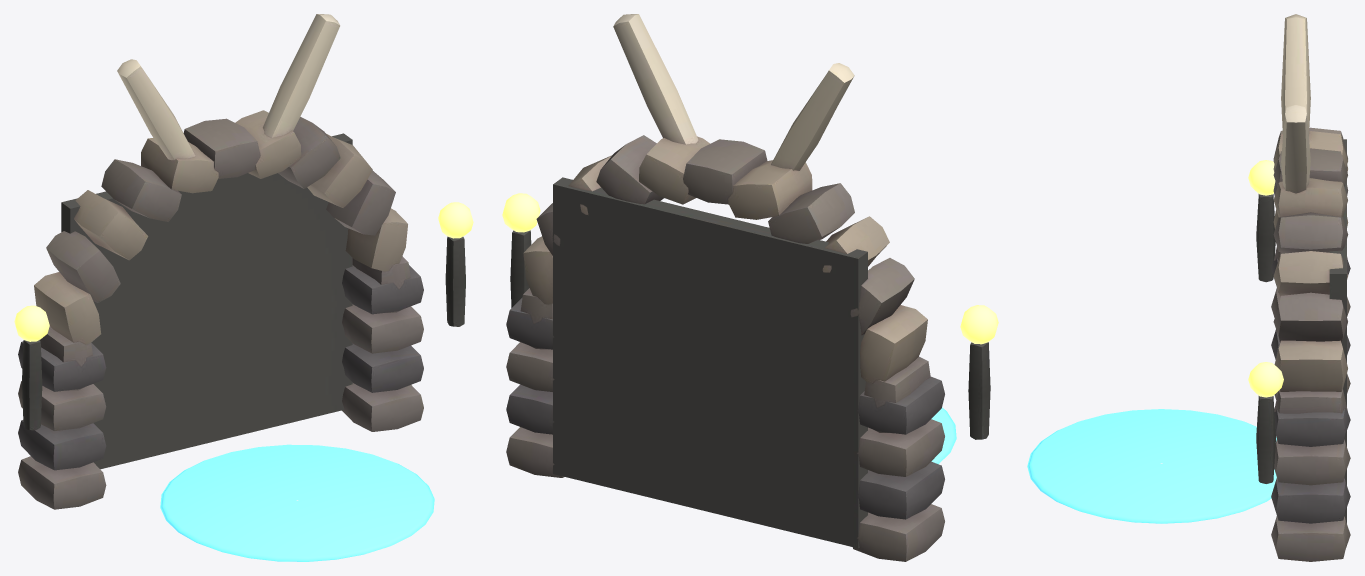
File: arena_gate.glb
3 renders of one model, left to right at view 1: azimuth 30°, elevation 25°; view 2: azimuth 150°, elevation 25°; view 3: azimuth 270°, elevation 25°, orthographic. The views are drawn at different scales.
Visible parts, largest first — view 1: main, glow; view 2: main, glow; view 3: main, glow.
Part boxes in pixels (<box>): main: <box>18,14,465,509</box>; glow: <box>14,202,473,561</box>; main: <box>506,14,990,561</box>; glow: <box>502,193,998,464</box>; main: <box>1256,14,1350,561</box>; glow: <box>1027,160,1283,523</box>.
Size of the model in its own units: 10.32 by 9.25 by 6.5.
3 materials, 1 textured.
